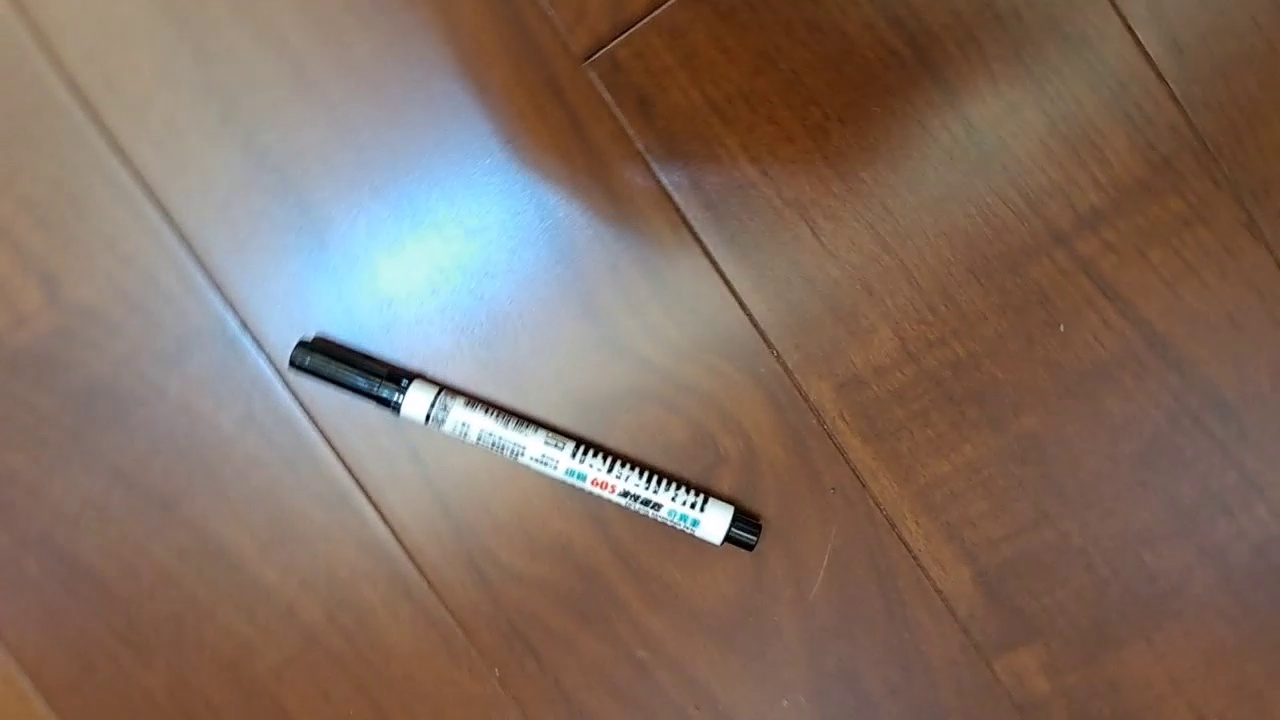pen: (287, 335, 764, 553)
